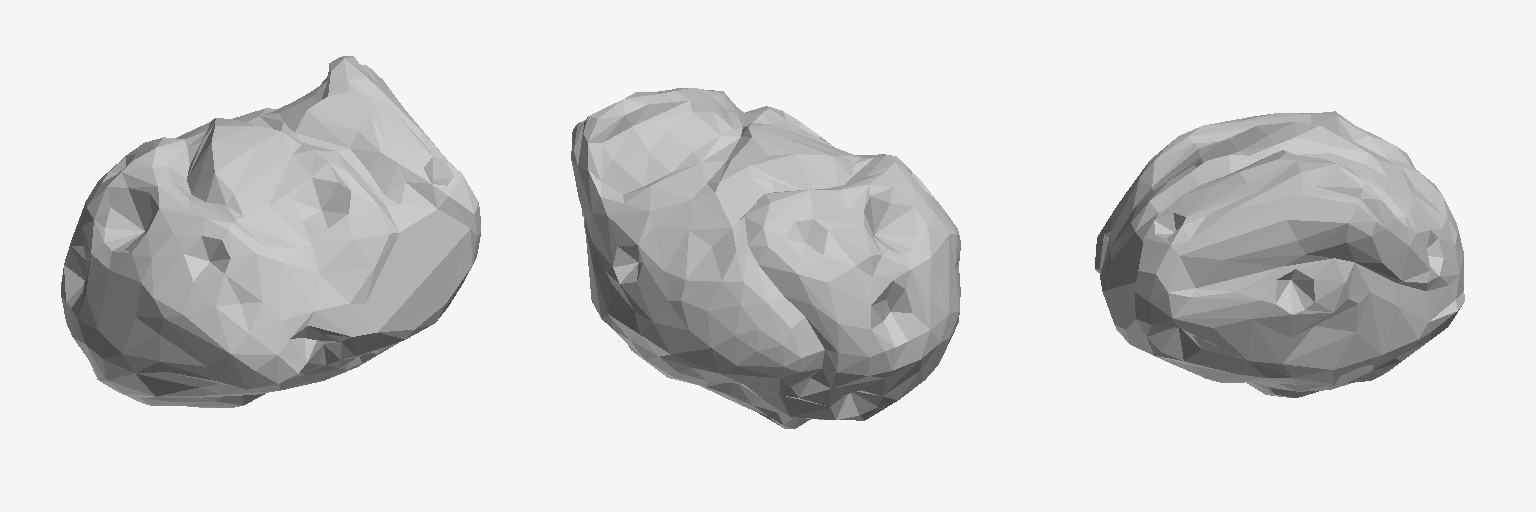
Rendered from Rock_Short.obj.
3 renders of one model, left to right at view 1: azimuth 30°, elevation 25°; view 2: azimuth 150°, elevation 25°; view 3: azimuth 270°, elevation 25°, orthographic.
Visible parts, largest first — view 1: ShortRock:Group9533; view 2: ShortRock:Group9533; view 3: ShortRock:Group9533.
Boxes of the visible parts, x1,y1,x2,y2 form: ShortRock:Group9533: [61, 56, 480, 407]; ShortRock:Group9533: [571, 88, 960, 428]; ShortRock:Group9533: [1095, 111, 1464, 397].
Bounding box in the file's own units: 113 × 93.98 × 106.